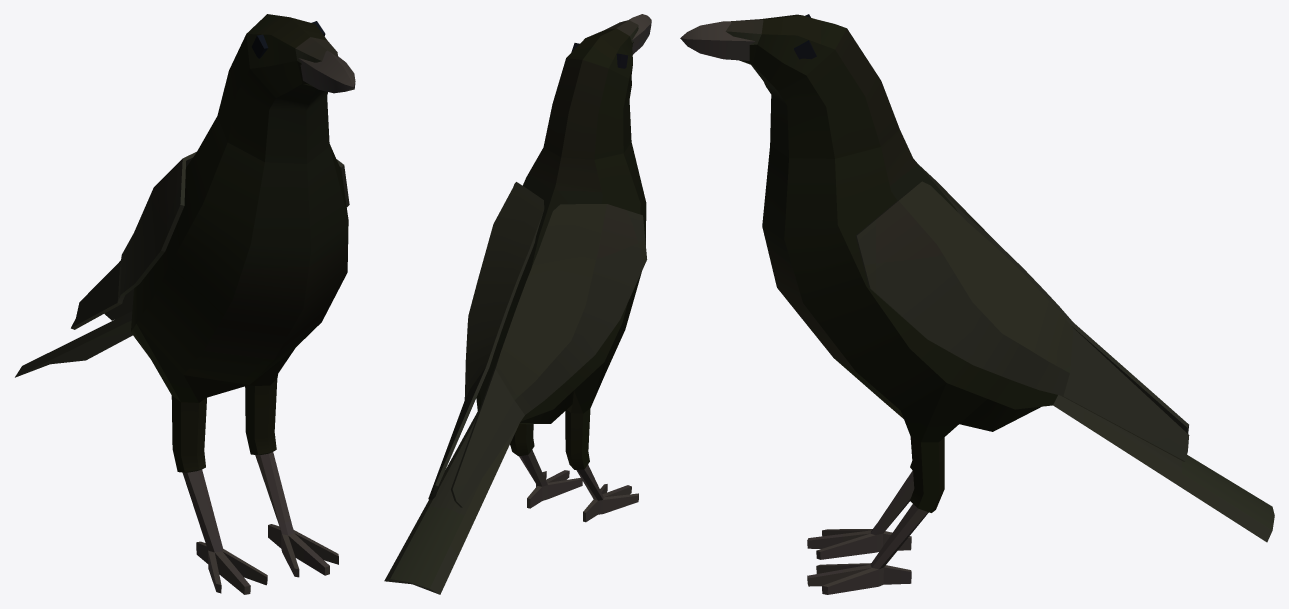
The model's file is 1MIvWQ5Q3R9.glb.
3 renders of one model, left to right at view 1: azimuth 30°, elevation 25°; view 2: azimuth 150°, elevation 25°; view 3: azimuth 270°, elevation 25°, orthographic. The views are drawn at different scales.
Visible parts, largest first — view 1: Geo_Crow; view 2: Geo_Crow; view 3: Geo_Crow.
Part boxes in pixels (left/top/right/bottom): Geo_Crow: left=15, top=14, right=355, bottom=594; Geo_Crow: left=384, top=14, right=651, bottom=594; Geo_Crow: left=680, top=14, right=1274, bottom=594.
Bounding box in the file's own units: 0.3466 × 1 × 0.9778.
Materials: 1 (1 with a texture image).
